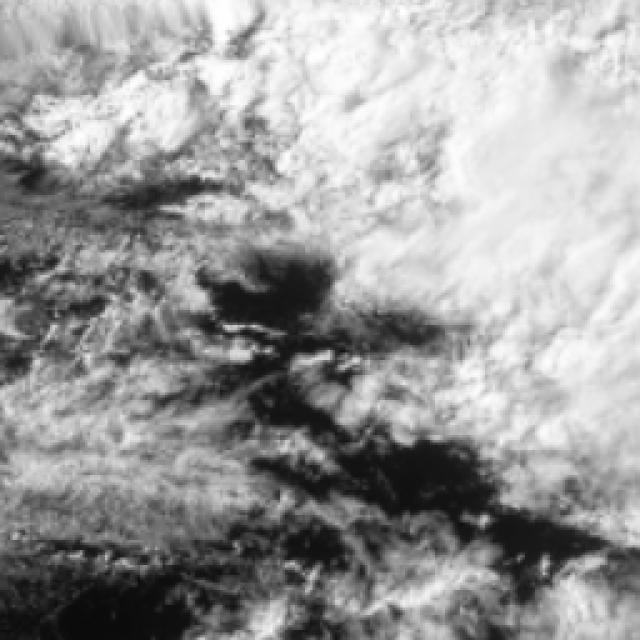CB: (459, 3, 640, 298), (276, 0, 459, 131)
